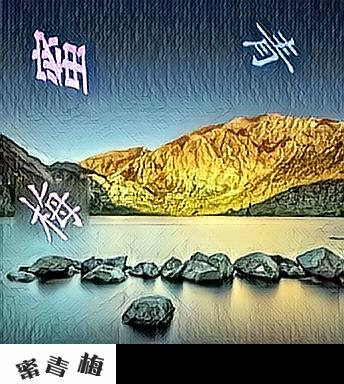character: (17, 179, 96, 250), (27, 28, 94, 99), (240, 18, 300, 78)
